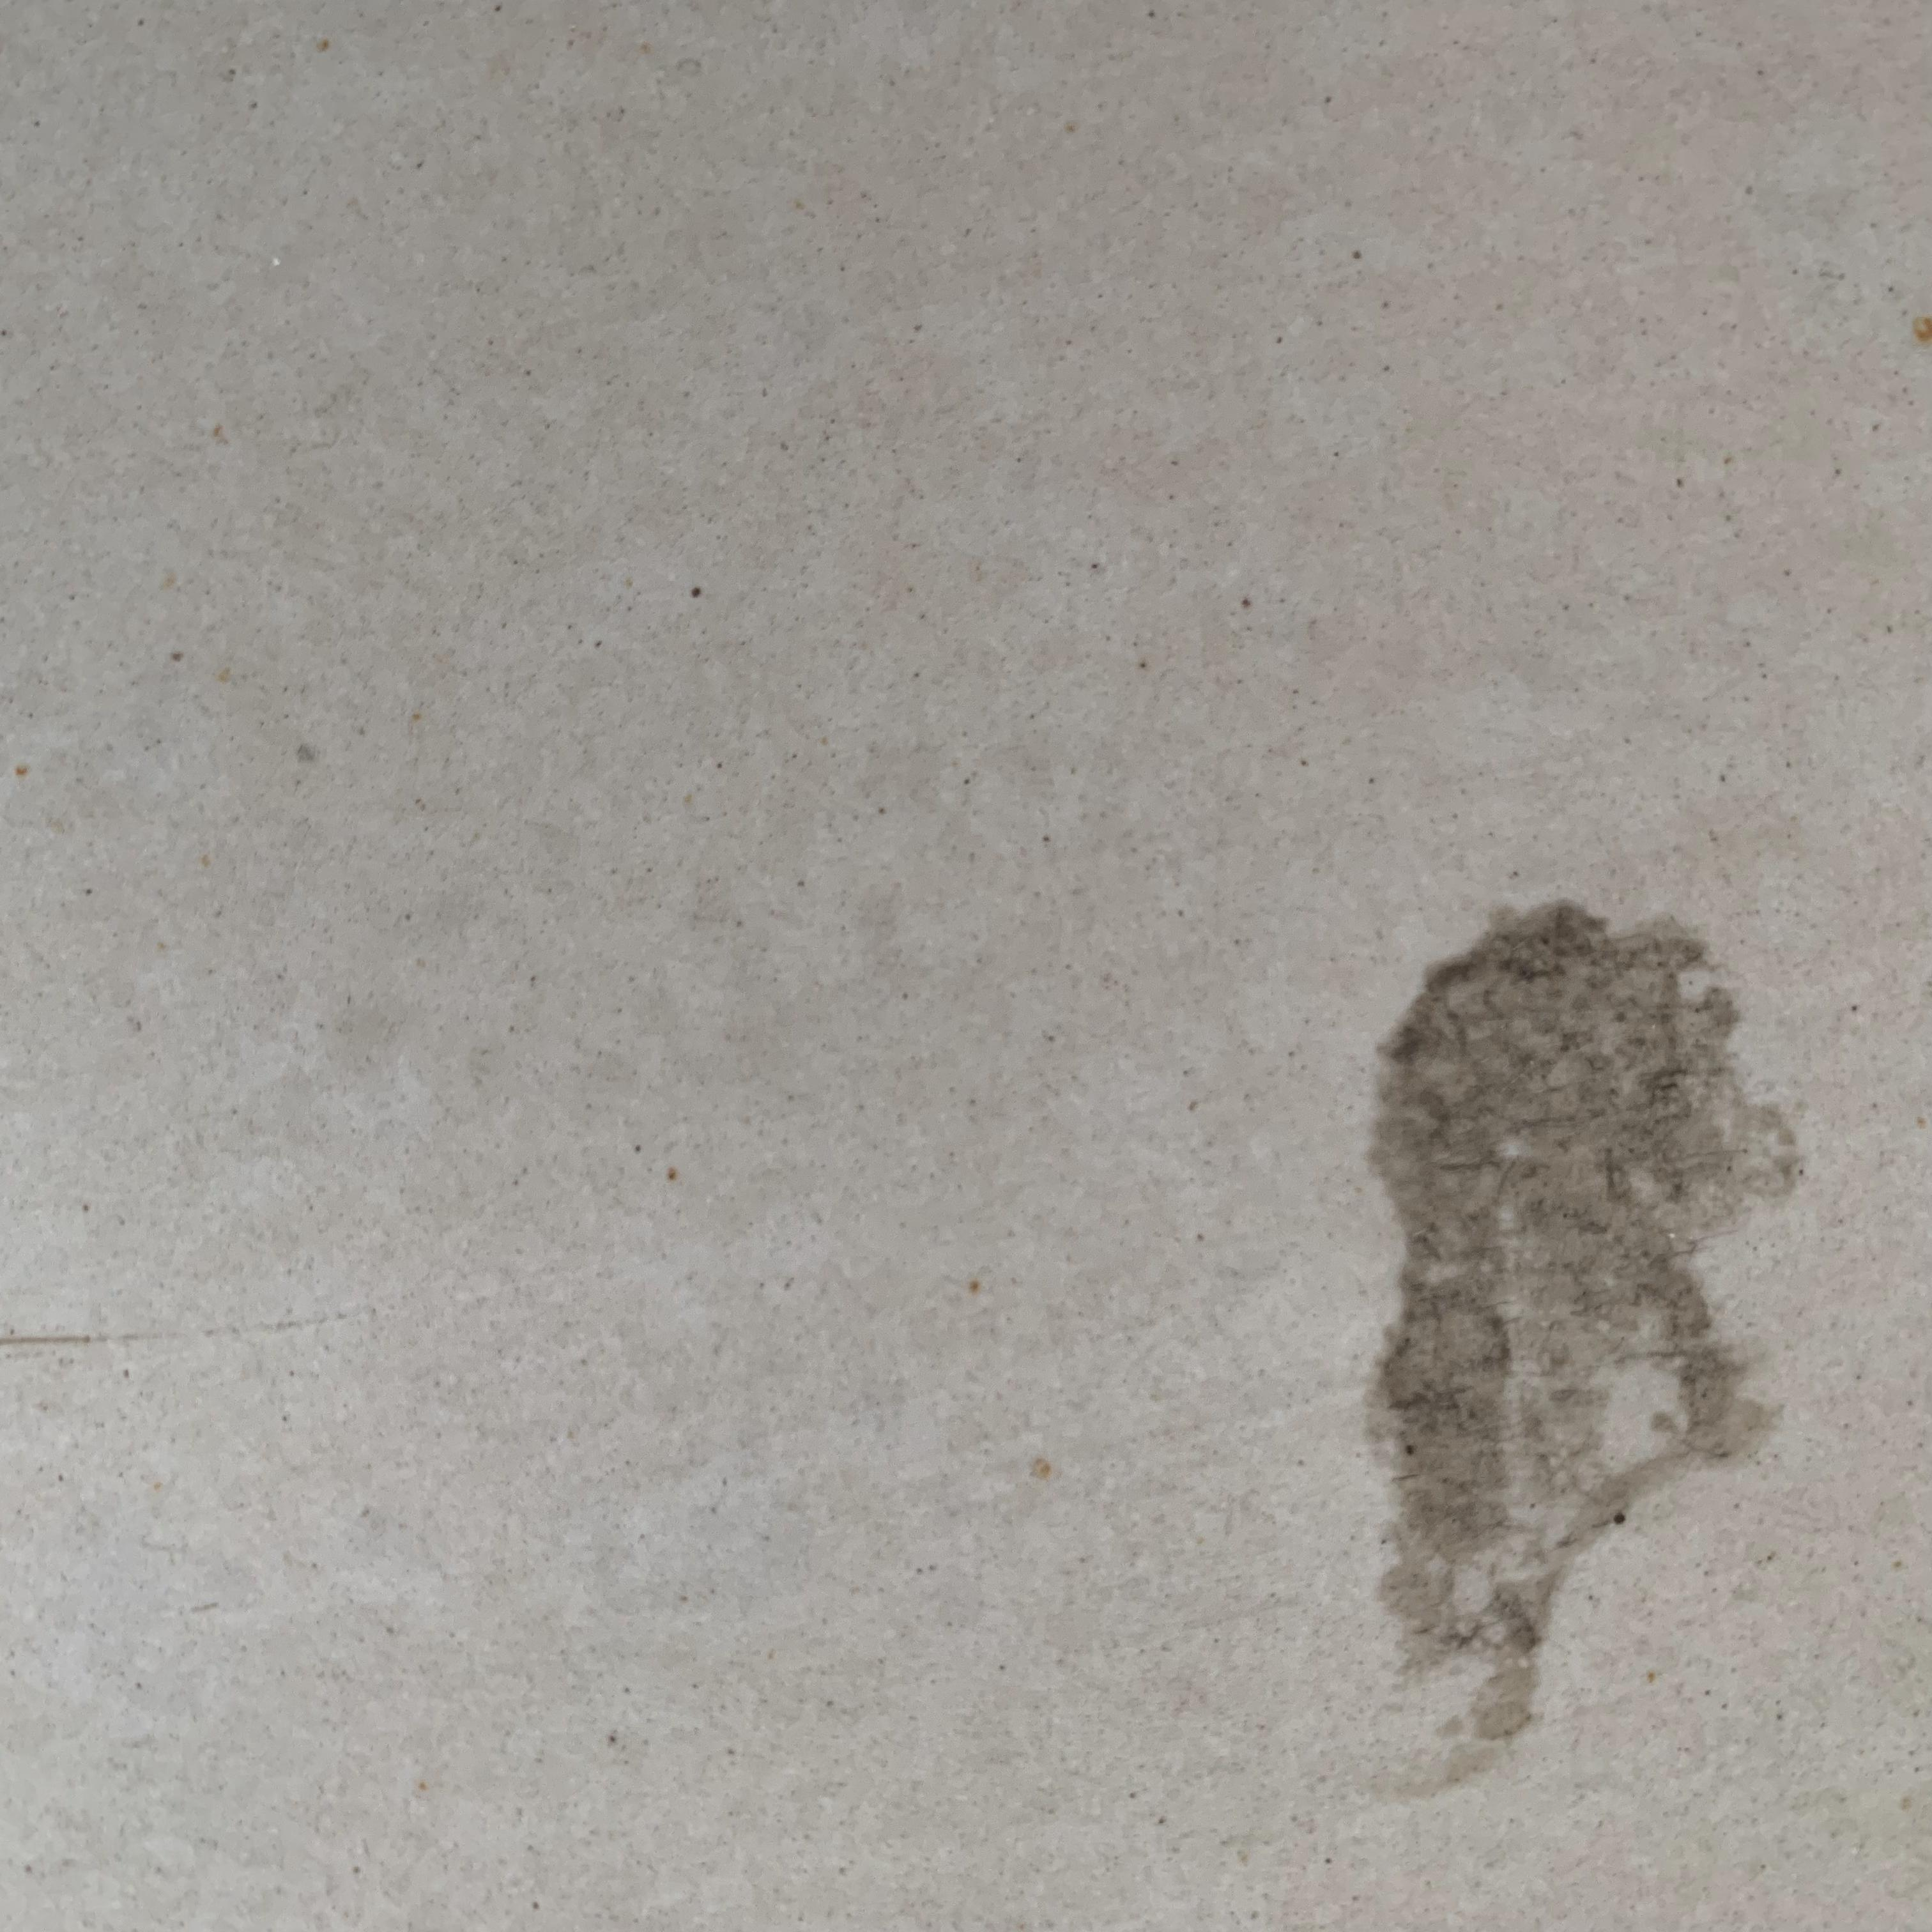grey spot: (1364, 902, 1801, 1799)
